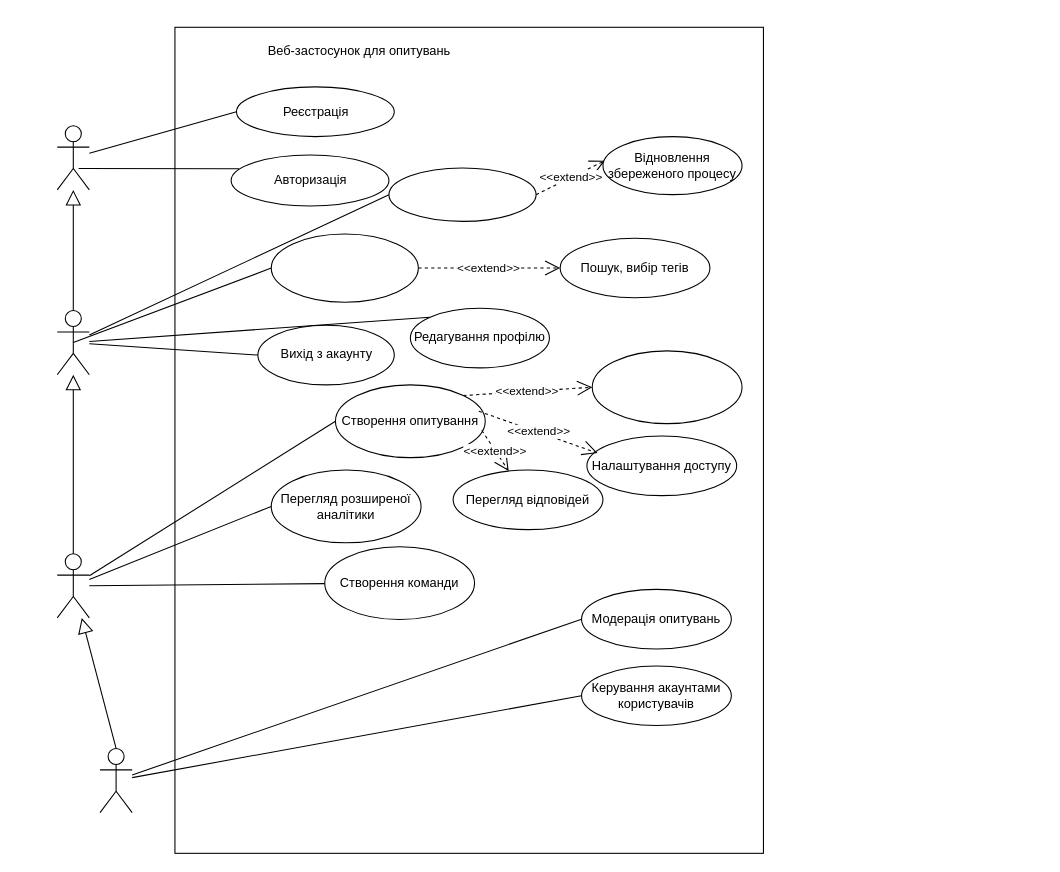
Image size: 1060x872. Some labels were removed from this diagram. Each missing label, with the box of its shape:
Автор: (56, 553, 89, 618)
Адмін: (99, 747, 132, 813)
Генерація за допомогою ШІ: (591, 350, 742, 424)
Користувач: (56, 309, 89, 375)
Неавторизований користувач: (56, 125, 89, 190)
Перегляд каталогу: (270, 233, 418, 302)
Проходження опитування: (388, 167, 536, 221)
